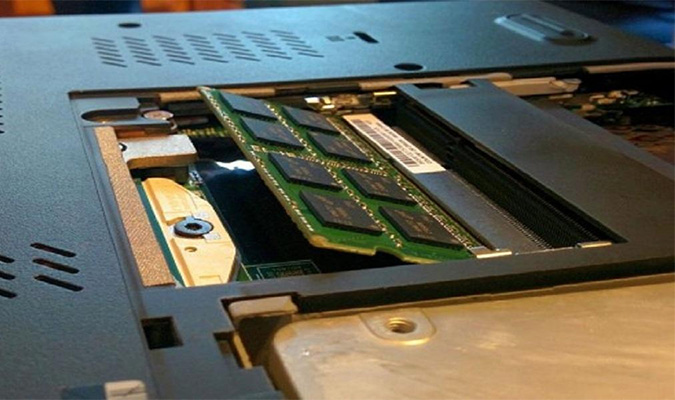ram: (198, 85, 475, 259)
